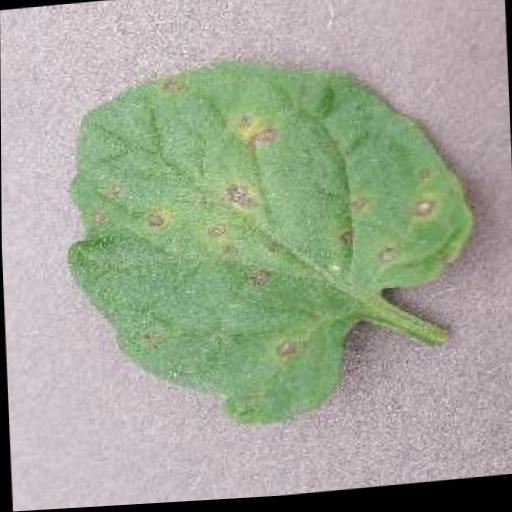Septoria: (59, 46, 480, 441)
